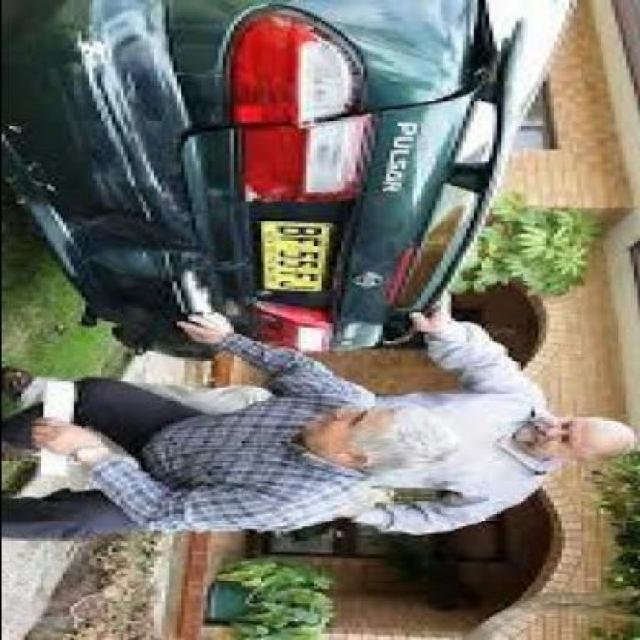damage: (60, 194, 269, 288)
